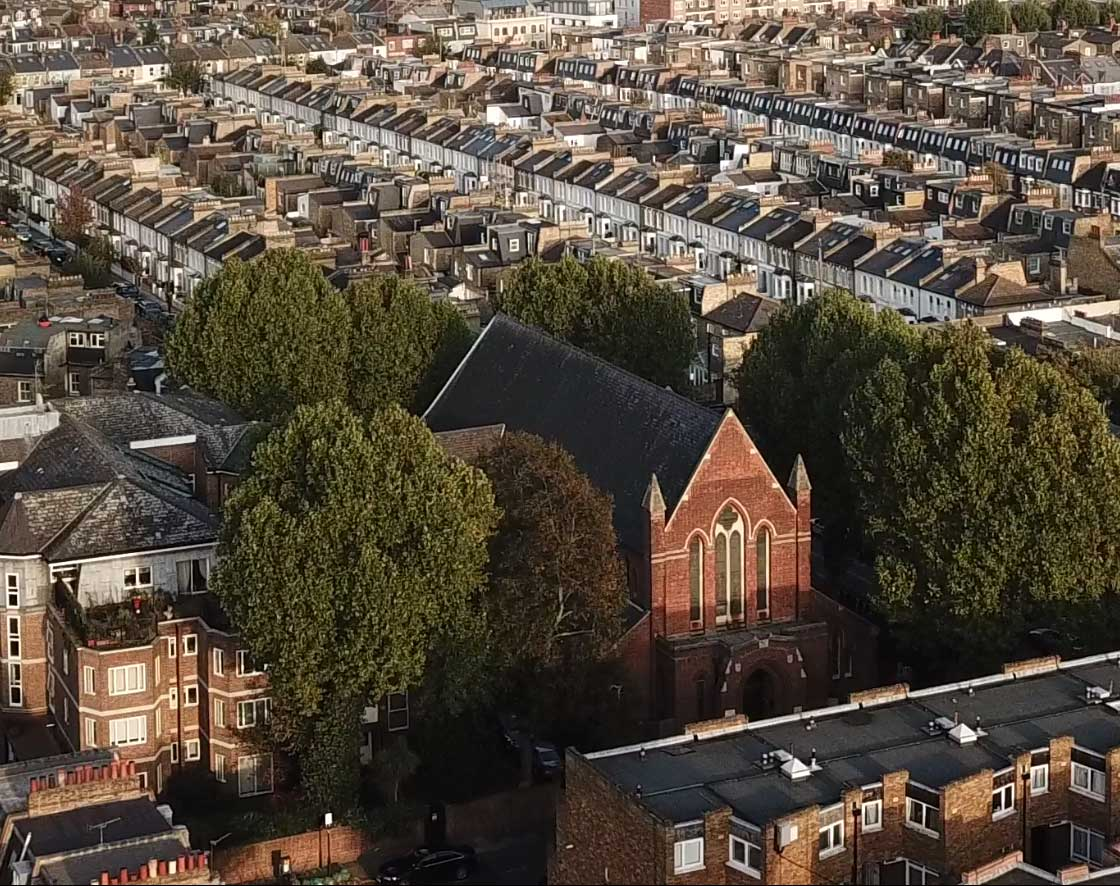building: (411, 305, 848, 727), (5, 385, 313, 810)
tree: (200, 402, 625, 808), (739, 285, 1120, 640)
